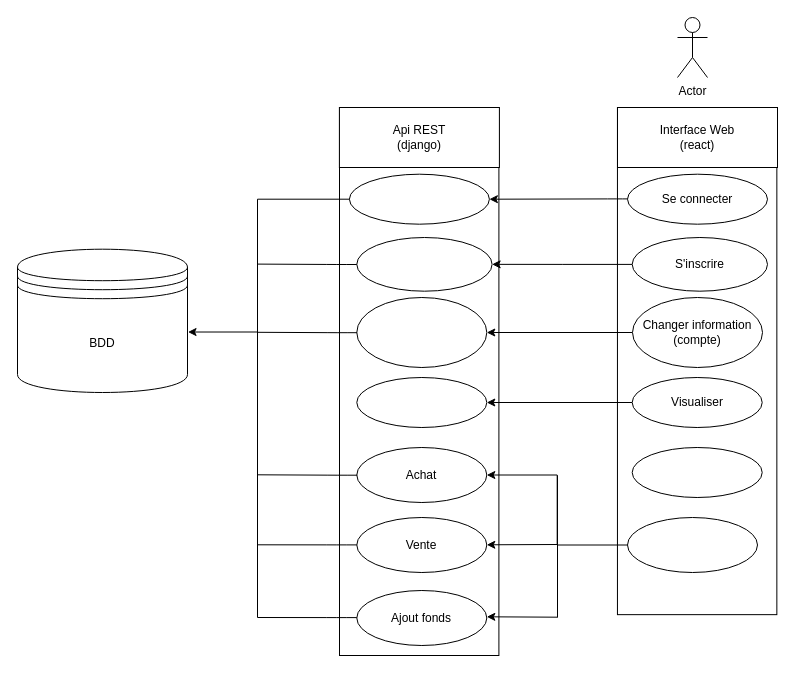
This 795x673 diagram has some shape labels left out. The shapes that lost their labels are listed below. From the top down, each one's centre as x and y in pixels, then its label:
(x=418, y=198): Peut se connecter ?
(x=424, y=263): Inscription
(x=421, y=332): Modification User
(x=421, y=402): Générer JSON pour les graphes
(x=696, y=472): Choisir graphes
(x=692, y=544): Gestion portefeuille
